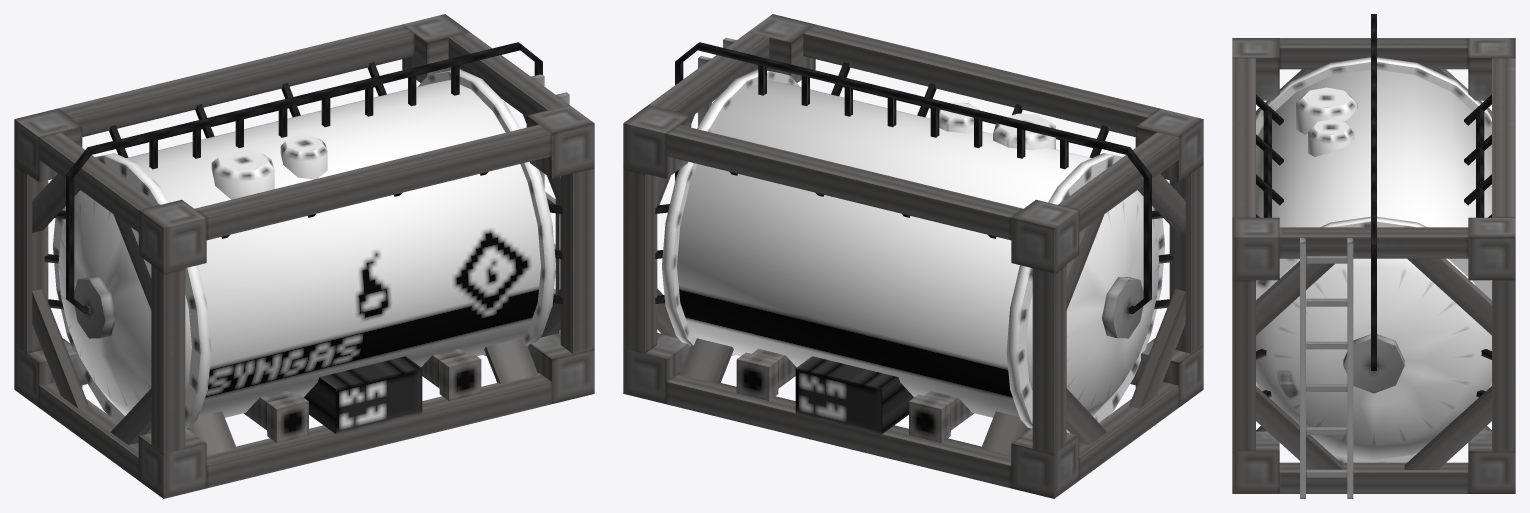
Rendered from machine_fluidtank_fluid_90.obj.
The picture shows the model from 3 angles, left to right: view 1: azimuth 30°, elevation 25°; view 2: azimuth 150°, elevation 25°; view 3: azimuth 270°, elevation 25°; orthographic projection. The views are drawn at different scales.
Visible parts, largest first — view 1: Frame, Tank; view 2: Frame, Tank; view 3: Frame, Tank.
Boxes of the visible parts, x1,y1,x2,y2 form: Frame: (14,14,594,498); Tank: (53,69,555,433); Frame: (623,14,1203,498); Tank: (662,69,1164,433); Frame: (1232,14,1515,498); Tank: (1256,57,1491,462).
Size of the model in its own units: 5.5 by 3.28 by 3.
